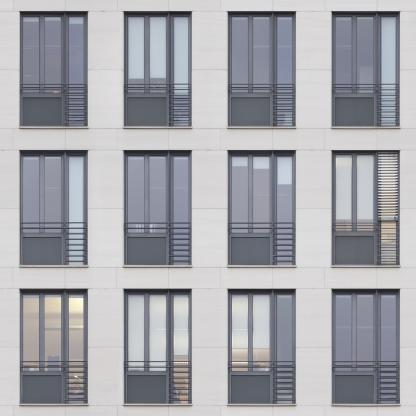Building Outline: (1, 1, 415, 415)
Facade: (0, 0, 415, 415)
Floor: (0, 135, 416, 265), (0, 275, 416, 404), (0, 0, 416, 126)
Floor Slab: (0, 403, 416, 413), (0, 265, 416, 275), (0, 126, 416, 135)
Window: (382, 16, 398, 126), (69, 16, 85, 126), (173, 16, 189, 126), (278, 16, 294, 126), (382, 294, 398, 403), (382, 156, 398, 265), (69, 294, 85, 403), (69, 156, 85, 265), (173, 294, 189, 403), (173, 156, 189, 265), (278, 294, 294, 403), (278, 156, 294, 265), (336, 16, 353, 93), (358, 16, 375, 93), (23, 16, 40, 93), (45, 16, 62, 93), (127, 16, 144, 93), (149, 16, 166, 93), (232, 16, 249, 93), (253, 16, 270, 93), (336, 294, 353, 370), (358, 294, 375, 370), (336, 156, 353, 232), (358, 156, 375, 232), (23, 294, 40, 370), (45, 294, 62, 370), (23, 156, 40, 232), (45, 156, 62, 232), (127, 294, 144, 370), (149, 294, 166, 370), (127, 156, 144, 232), (149, 156, 166, 232), (232, 294, 249, 370), (253, 294, 270, 370), (232, 156, 249, 232), (253, 156, 270, 232)
